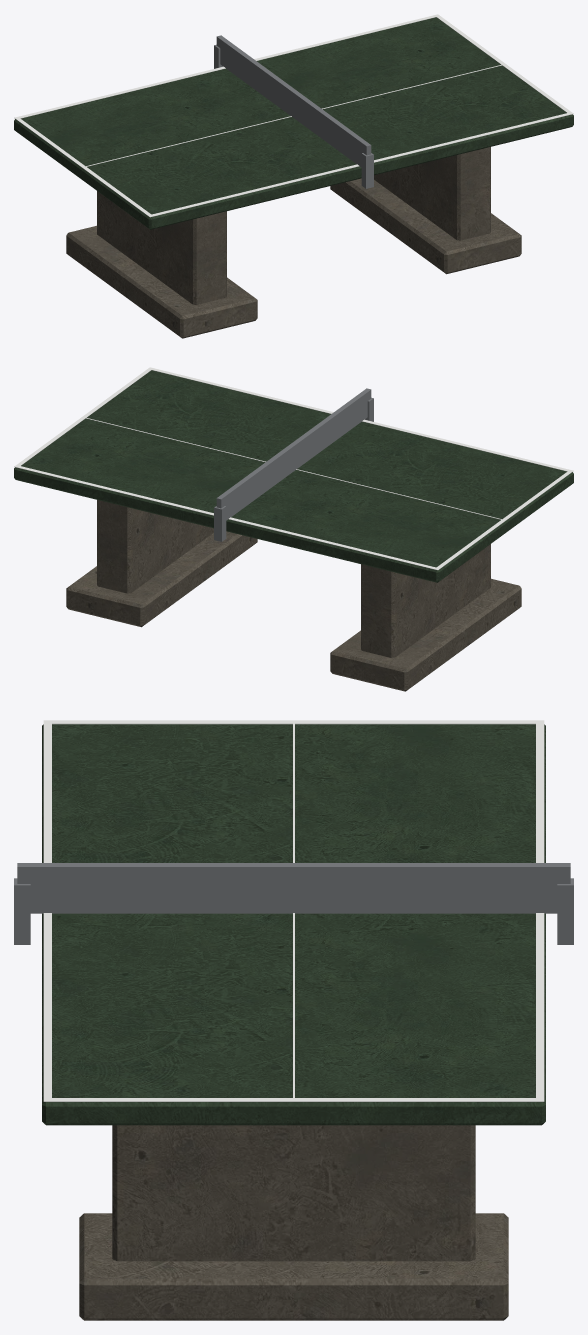
File: table-tennis.glb
3 renders of one model, top to bottom at view 1: azimuth 30°, elevation 25°; view 2: azimuth 150°, elevation 25°; view 3: azimuth 270°, elevation 25°, orthographic. The views are drawn at different scales.
Parts seen in each view (by area): view 1: table-tennis; view 2: table-tennis; view 3: table-tennis.
Part boxes in pixels (x1=…): table-tennis: x1=14, y1=14, x2=573, y2=338; table-tennis: x1=14, y1=367, x2=573, y2=691; table-tennis: x1=14, y1=720, x2=573, y2=1320.
Bounding box in the file's own units: 2.74 × 1.02 × 1.69.
4 materials, 2 textured.
